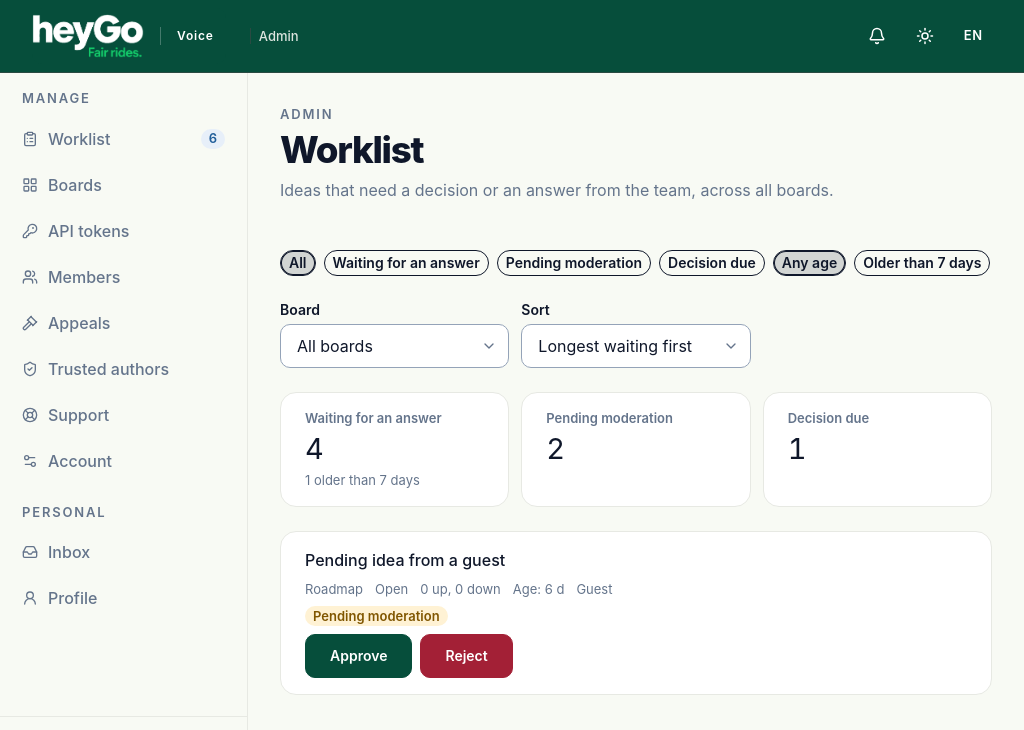
Test: WorklistPage — row actions (P-06 slice 04) › approves a pending row via the moderation queue and removes it
The image size is (1024, 730).
Click the button with test id "worklist-row-12-approve".
click(359, 656)  # box x1=305 y1=634 x2=412 y2=678
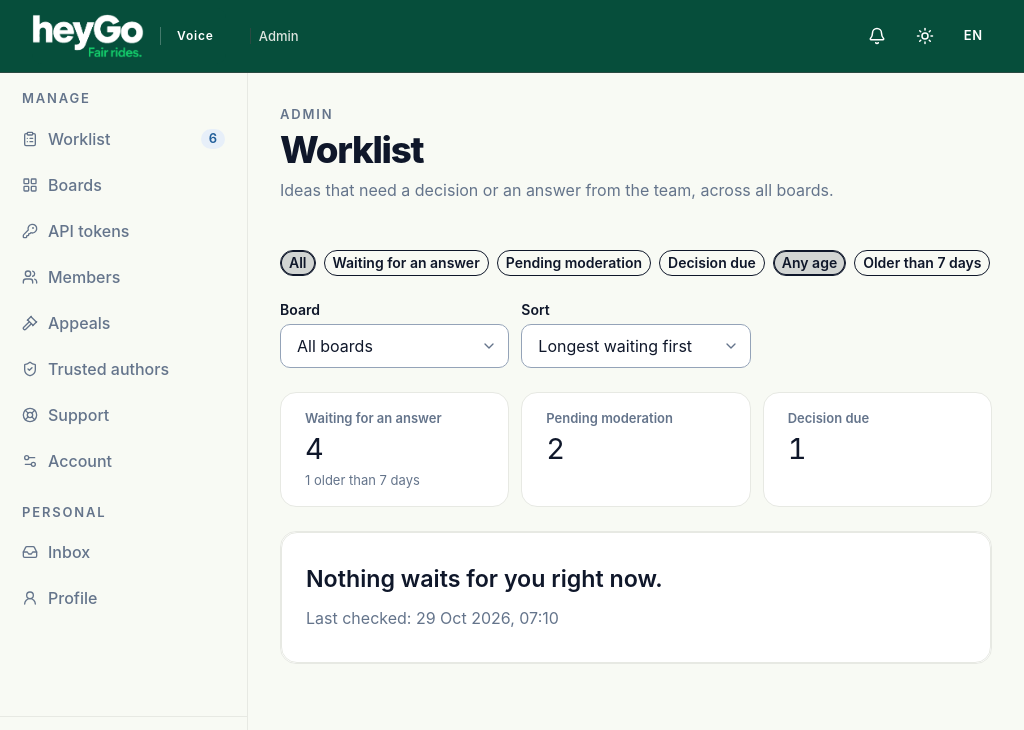
Expected: the list item with test id "worklist-row-12" is gone
